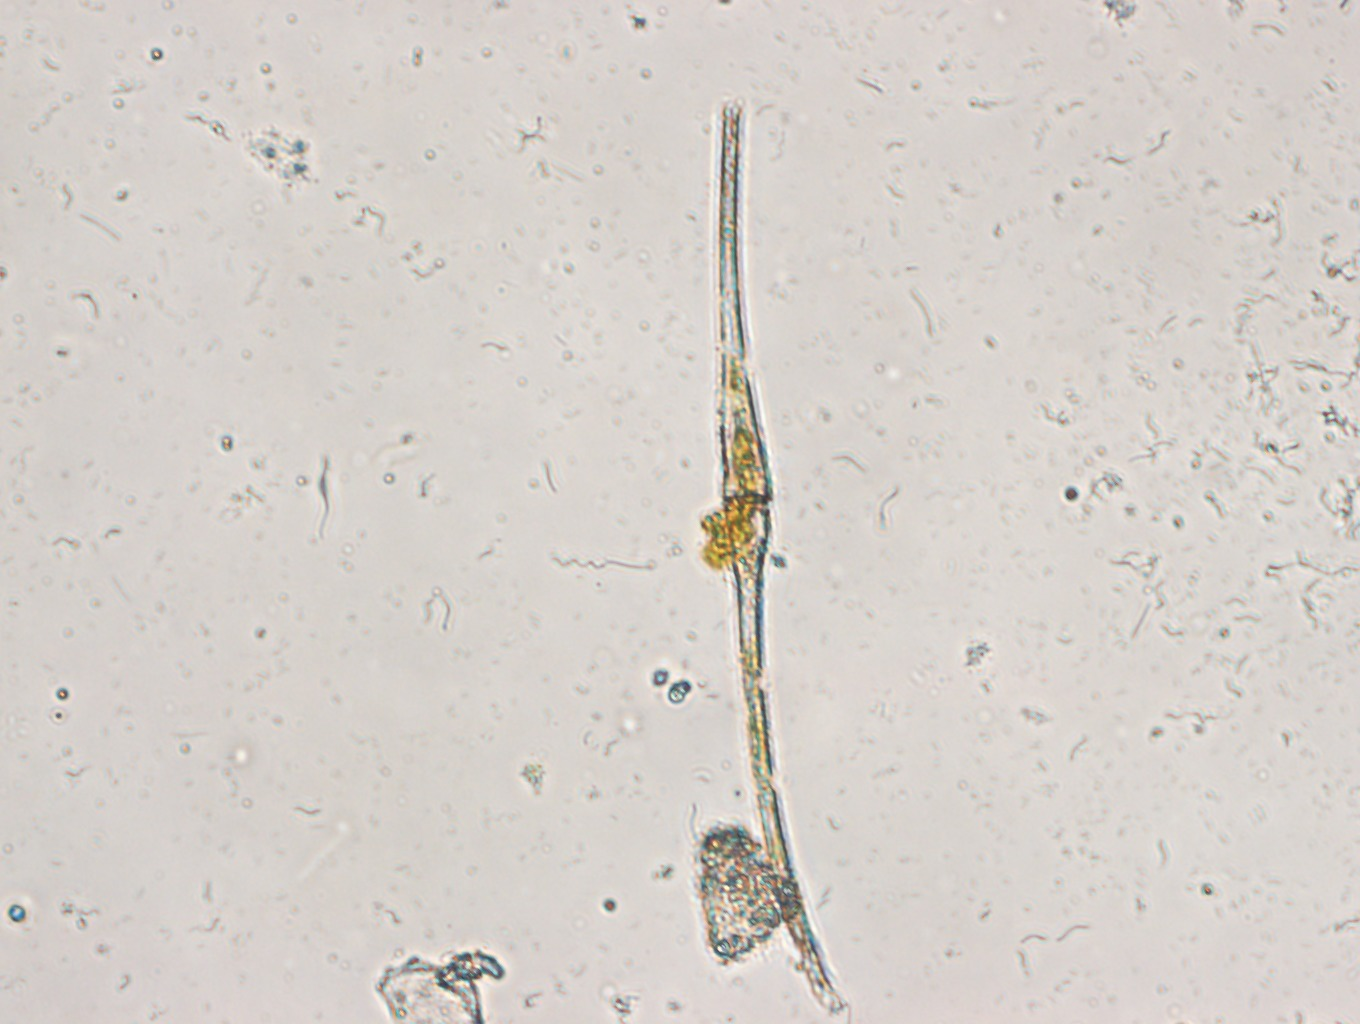ceratium fusus: (701, 83, 875, 1018)
